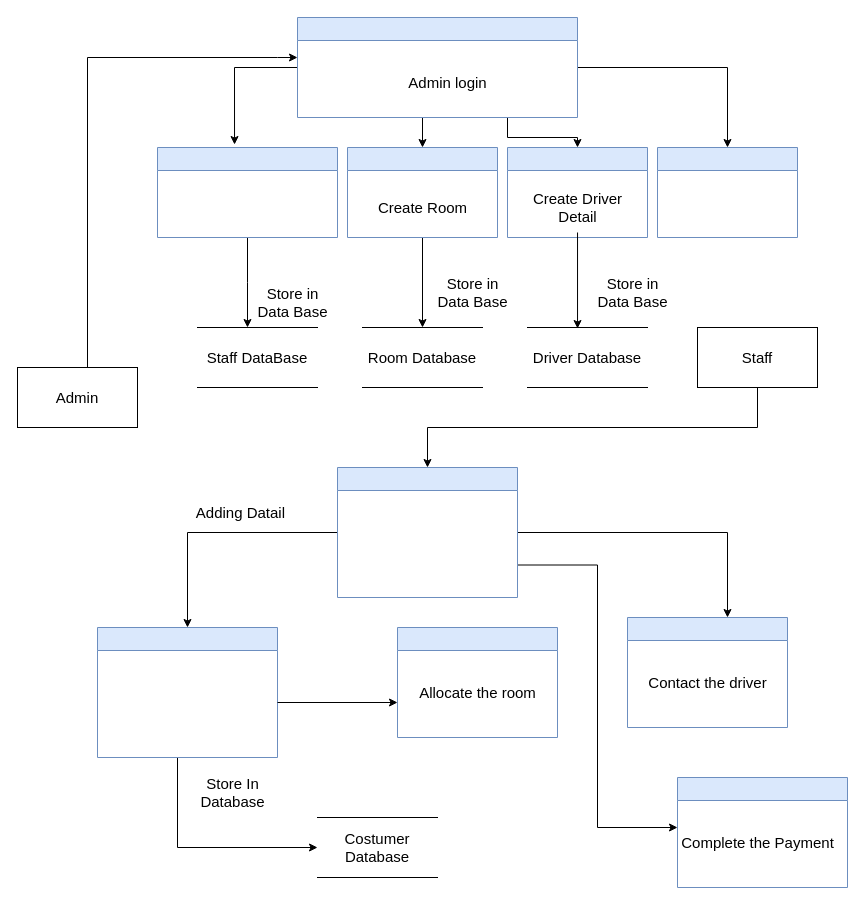
This 865x905 diagram has some shape labels left out. The centre of each missing label's shape, as x and y in pixels:
Add Costumer Detail: point 187,692
Create Staff account: point 247,192
Staff Login: point 427,532
View and Modifiy the data: point 727,192
